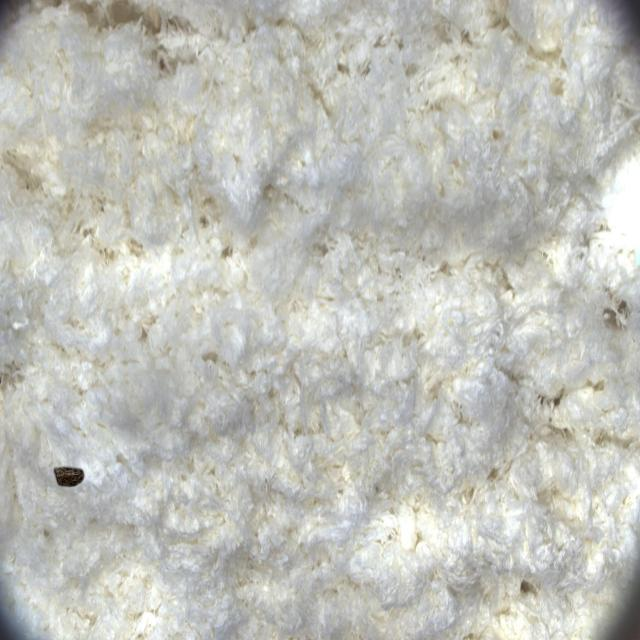dust: (31, 417, 112, 526)
